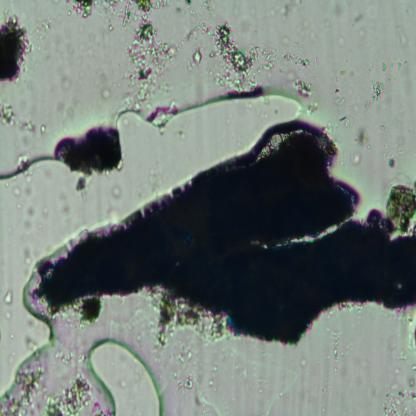Air bubble: (85, 332, 165, 416)
Background material: (192, 20, 272, 92), (127, 21, 185, 107), (52, 126, 131, 186), (65, 0, 166, 29), (0, 13, 35, 86), (147, 303, 202, 347), (0, 365, 43, 416), (51, 375, 92, 416), (275, 38, 319, 76), (162, 346, 194, 393), (396, 314, 416, 367), (366, 74, 390, 112), (382, 388, 416, 414), (284, 76, 320, 99), (76, 297, 102, 323), (181, 0, 215, 18), (376, 139, 396, 169), (0, 100, 22, 127), (266, 0, 300, 17), (182, 48, 204, 68), (332, 328, 341, 374), (22, 204, 36, 233), (37, 15, 55, 36), (13, 150, 30, 172), (18, 244, 32, 270), (56, 101, 74, 121), (357, 120, 372, 142), (22, 332, 36, 351), (110, 184, 124, 202), (58, 76, 73, 92), (20, 119, 37, 133), (336, 85, 347, 104), (95, 401, 108, 416), (348, 146, 360, 162), (295, 355, 310, 367), (99, 86, 112, 99), (335, 5, 346, 20), (174, 129, 185, 141), (36, 41, 46, 54), (2, 290, 12, 303), (302, 19, 311, 33), (96, 69, 106, 81), (15, 182, 22, 198), (24, 186, 33, 198), (232, 5, 240, 18), (3, 307, 11, 320), (206, 378, 214, 388), (342, 119, 350, 128), (40, 122, 46, 133), (340, 68, 348, 76), (7, 334, 16, 340), (214, 366, 218, 372)
Fragment: (36, 128, 416, 344)
